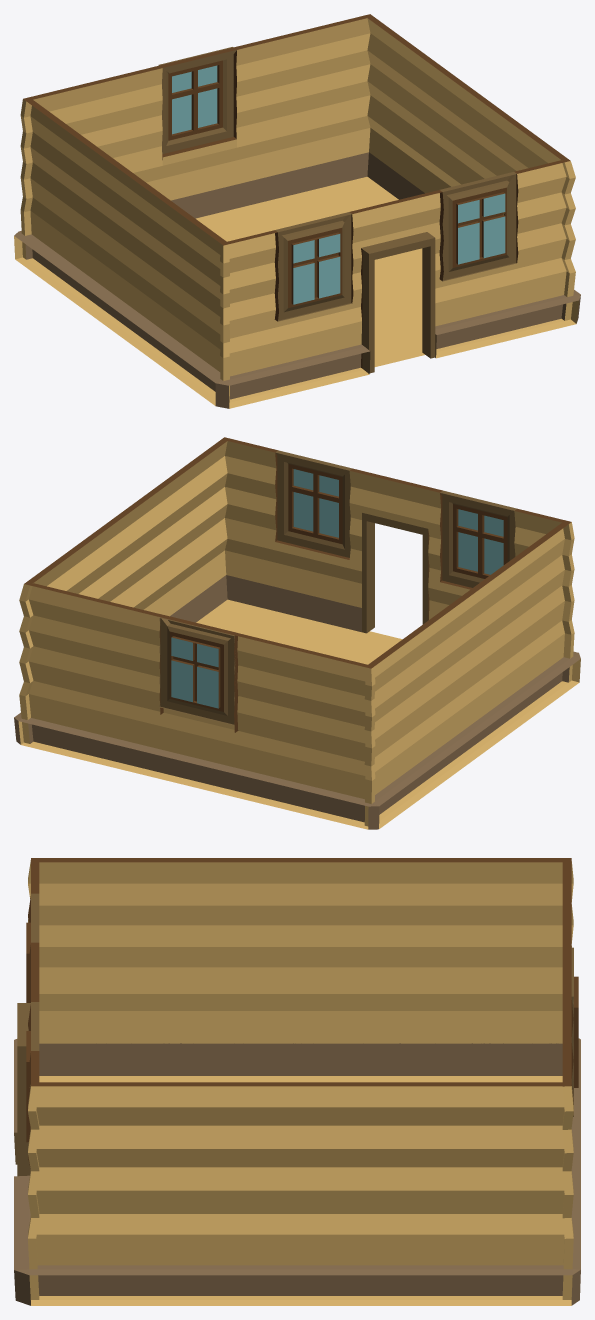
Rendered from ДомВнутри.fbx.
The picture shows the model from 3 angles, top to bottom: view 1: azimuth 30°, elevation 25°; view 2: azimuth 150°, elevation 25°; view 3: azimuth 270°, elevation 25°; orthographic projection. The views are drawn at different scales.
Parts seen in each view (by area): view 1: Дом внутри; view 2: Дом внутри; view 3: Дом внутри.
Part boxes in pixels (left/top/right/bottom): Дом внутри: left=14, top=14, right=580, bottom=408; Дом внутри: left=14, top=437, right=580, bottom=829; Дом внутри: left=14, top=858, right=580, bottom=1305.
Size of the model in its own units: 7595 by 3163 by 7575.
